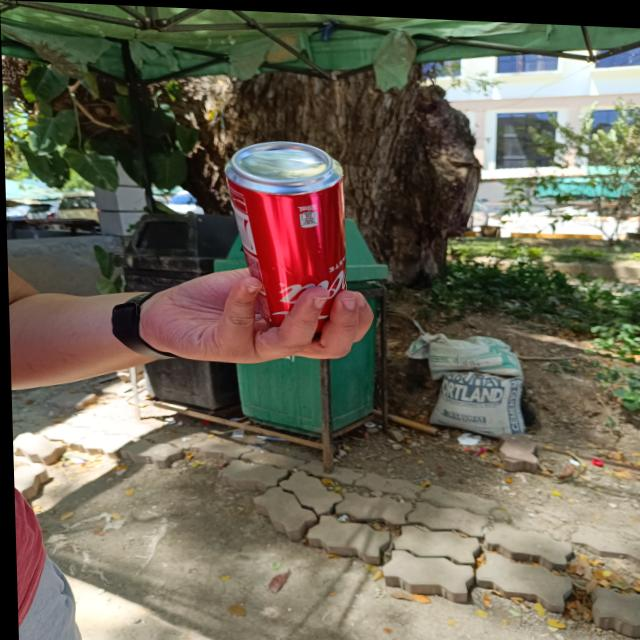coke: (219, 138, 349, 327)
